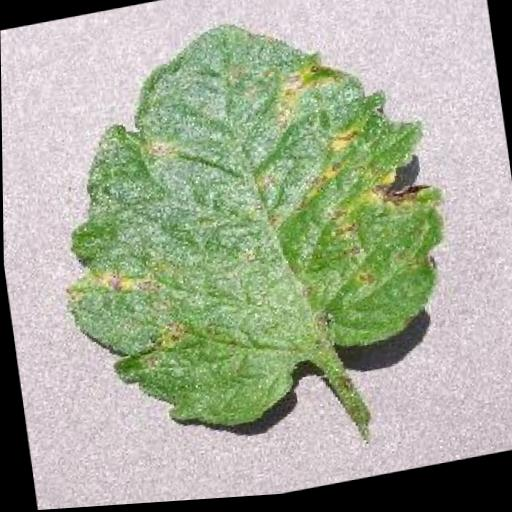Septoria: (33, 0, 470, 462)
